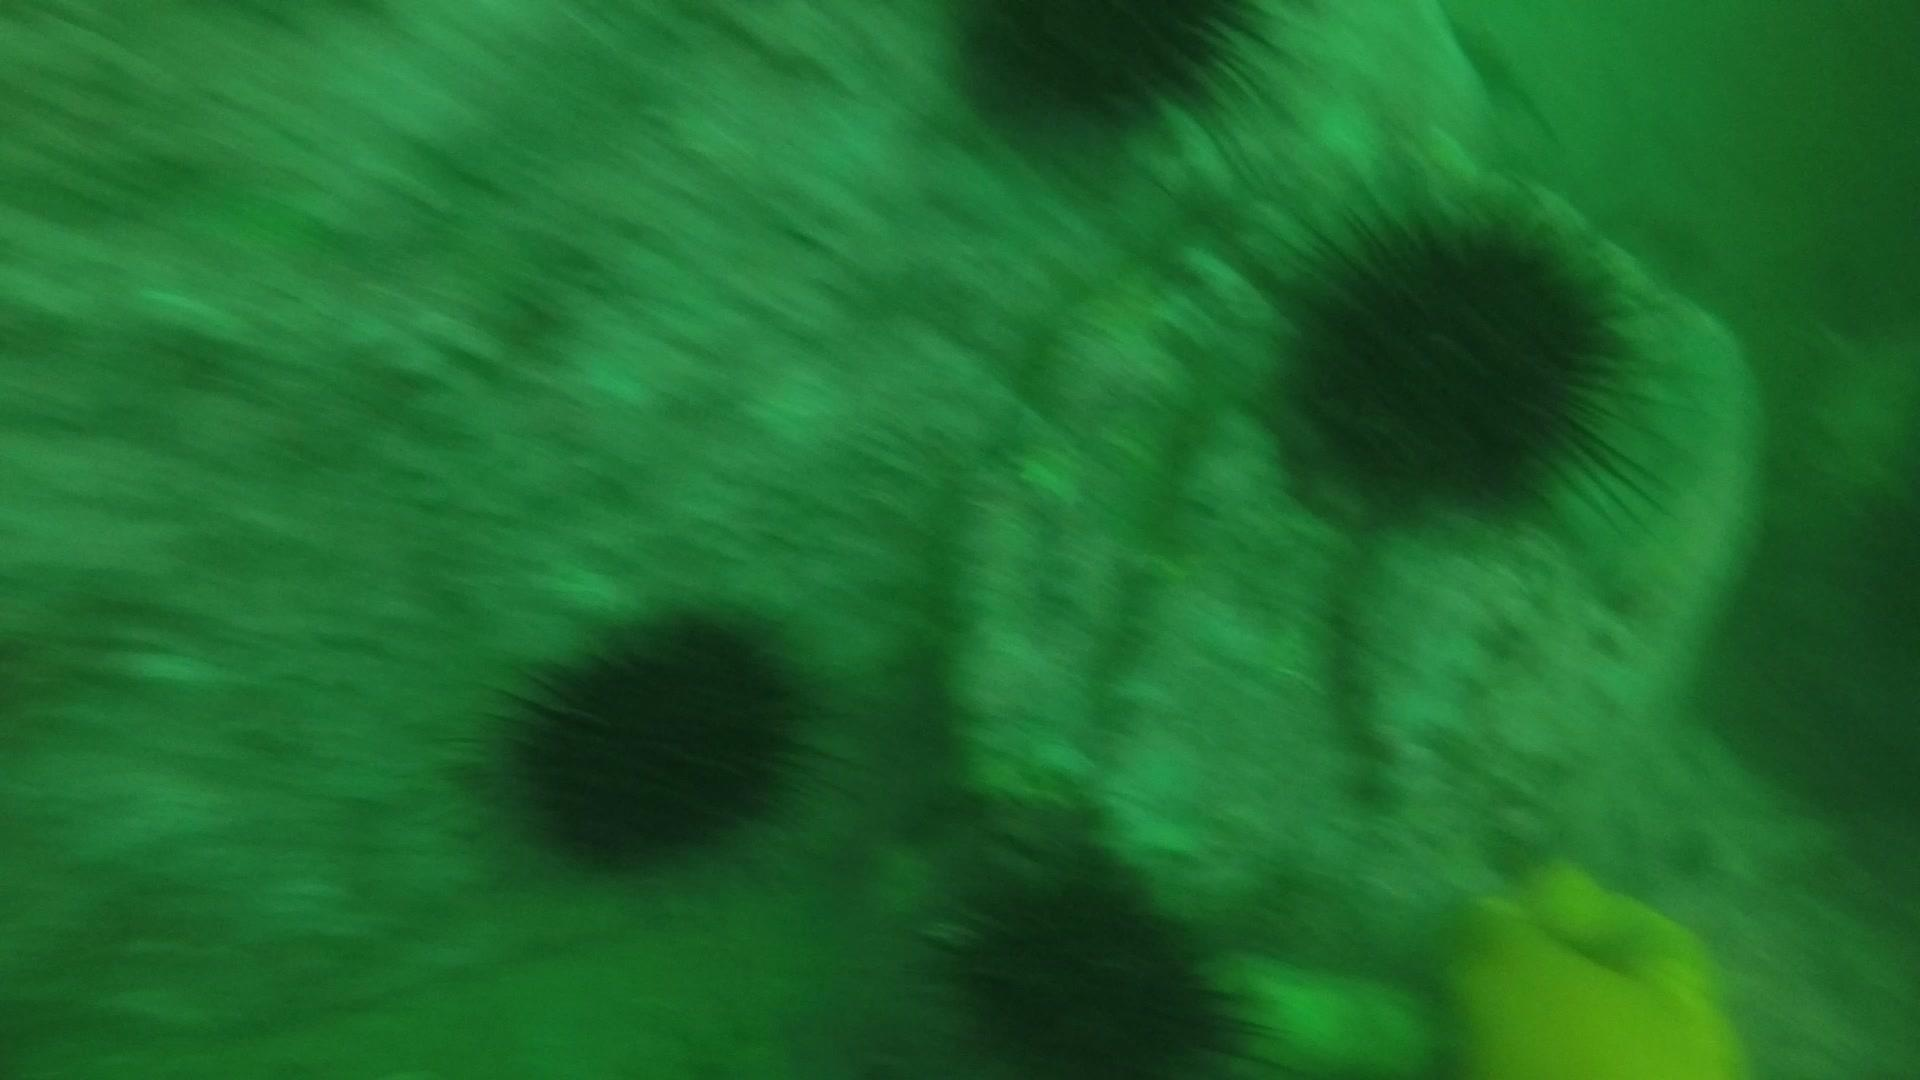echinus: (1266, 190, 1654, 522), (487, 597, 822, 880), (916, 837, 1261, 1073), (942, 3, 1283, 142)
starfish: (1427, 847, 1764, 1077)
